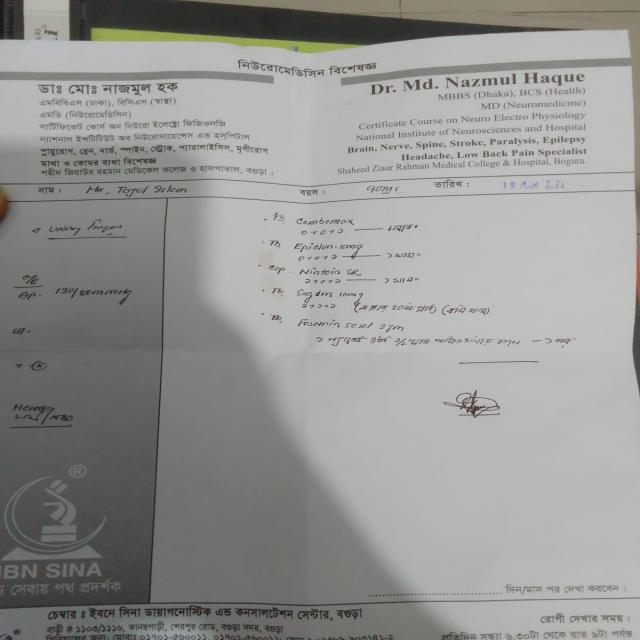Combomax: (291, 209, 362, 228)
Epiclon: (288, 239, 336, 252)
Fosamin: (294, 314, 377, 333)
Nintoin SR: (296, 265, 363, 279)
Sagdon: (292, 287, 336, 303)
